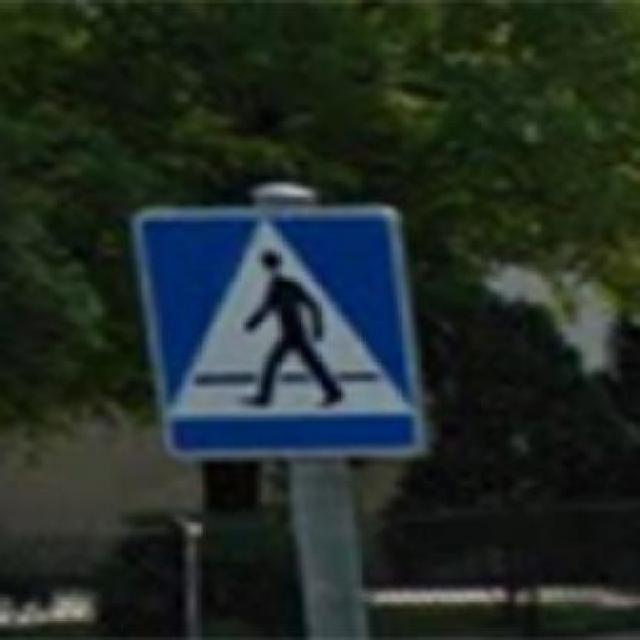Przejscie dla pieszych: (130, 205, 432, 464)
